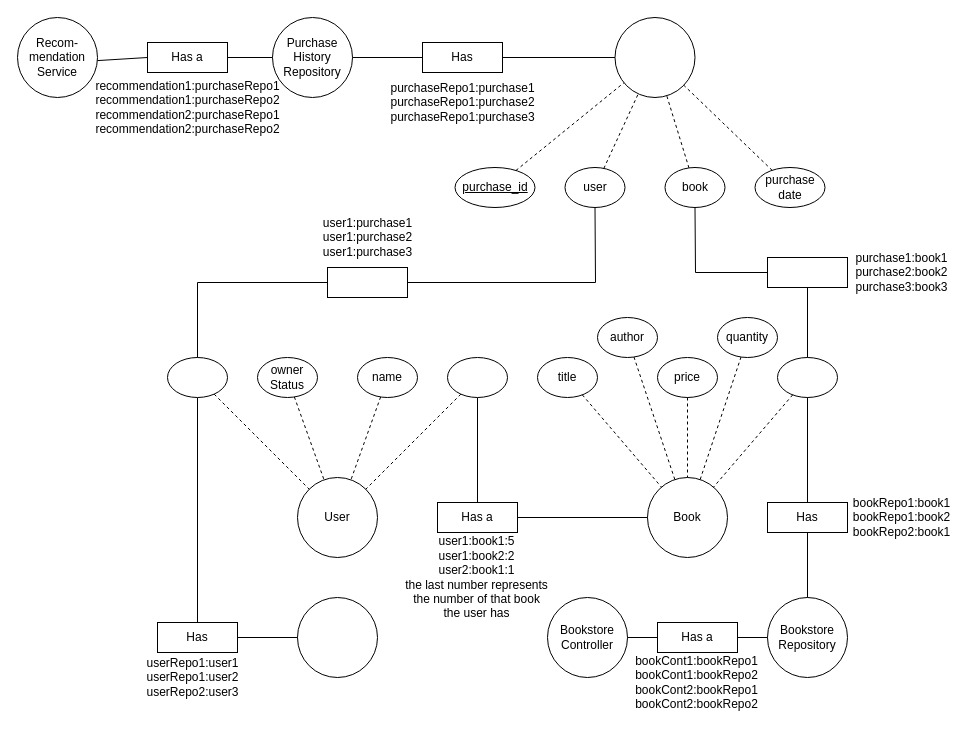
Image size: 979x735. Some labels were removed from this diagram. The centre of each missing label's shape, as x and y in pixels:
cart: (x=477, y=377)
id: (x=197, y=377)
isbn: (x=807, y=377)
Purchase History: (x=654, y=57)
Purchased: (x=807, y=272)
Purchaser: (x=367, y=282)
User Repository: (x=337, y=637)
